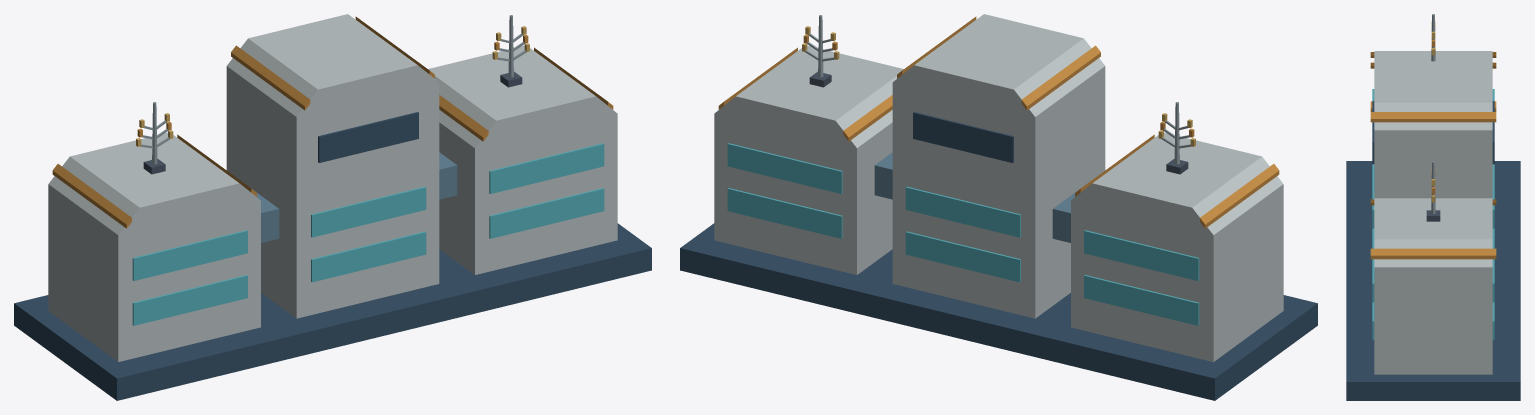
The model's file is SpaceStation_StationFacade_Showcase.glb.
3 renders of one model, left to right at view 1: azimuth 30°, elevation 25°; view 2: azimuth 150°, elevation 25°; view 3: azimuth 270°, elevation 25°, orthographic. The views are drawn at different scales.
Parts seen in each view (by area): view 1: SpaceStation_StationFacade_Showcase; view 2: SpaceStation_StationFacade_Showcase; view 3: SpaceStation_StationFacade_Showcase.
Boxes of the visible parts, x1,y1,x2,y2 form: SpaceStation_StationFacade_Showcase: [14, 14, 651, 400]; SpaceStation_StationFacade_Showcase: [680, 14, 1317, 400]; SpaceStation_StationFacade_Showcase: [1346, 14, 1520, 400].
Size of the model in its own units: 15 by 6.6 by 5.
